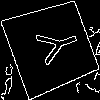Y: (26, 22, 82, 69)
